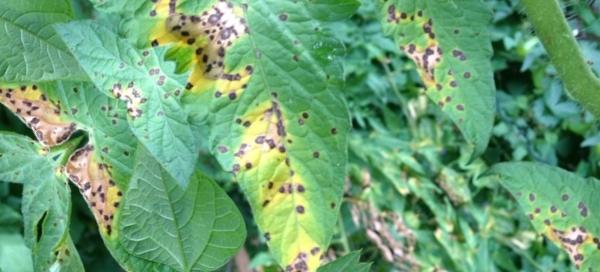Tomato Septoria leaf spot: (135, 0, 449, 272), (318, 0, 562, 156)
